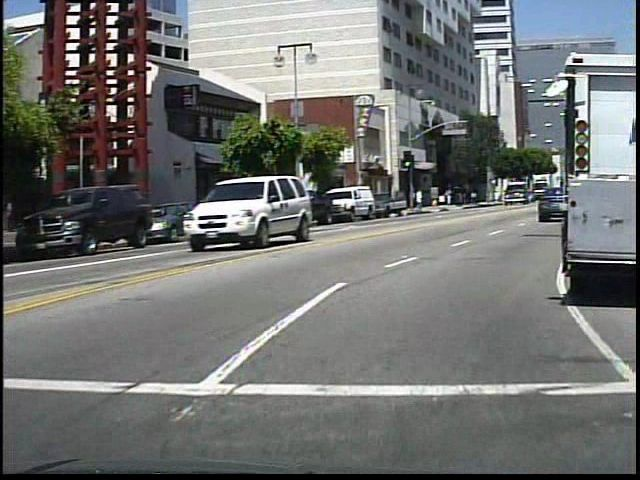person: (414, 187, 429, 214)
